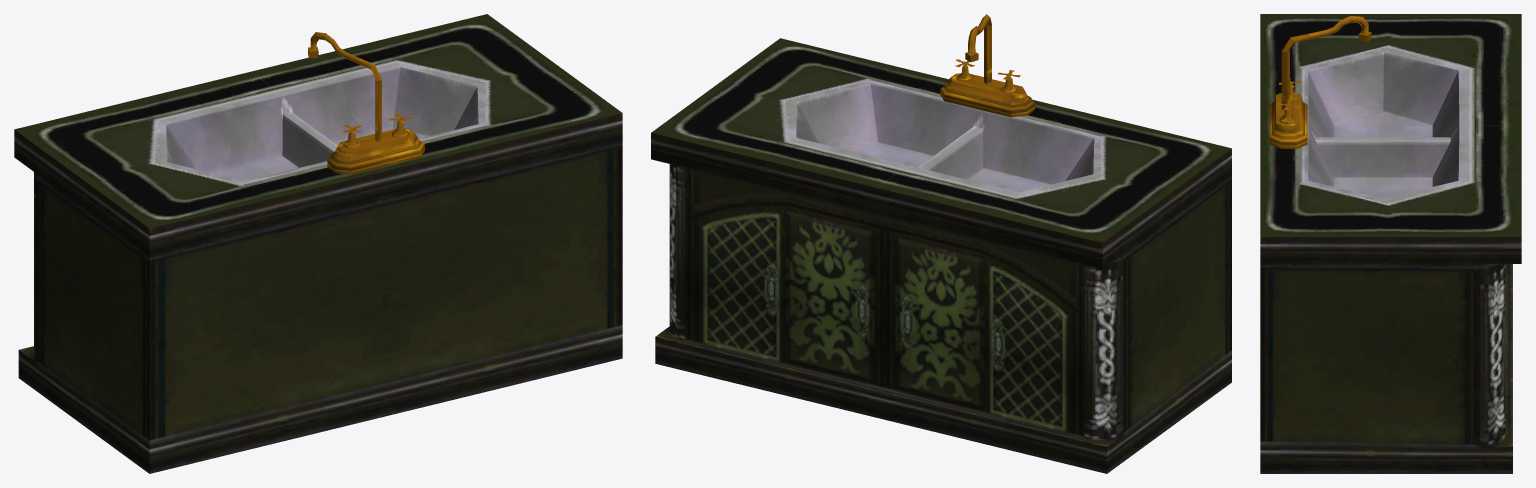
File: furni_0201225_03.FBX
3 renders of one model, left to right at view 1: azimuth 30°, elevation 25°; view 2: azimuth 150°, elevation 25°; view 3: azimuth 270°, elevation 25°, orthographic. The views are drawn at different scales.
Visible parts, largest first — view 1: furni_0201225_03; view 2: furni_0201225_03; view 3: furni_0201225_03.
Part boxes in pixels (x1,y1,x2,y2): furni_0201225_03: (14, 14, 622, 473); furni_0201225_03: (651, 14, 1231, 473); furni_0201225_03: (1260, 14, 1521, 473).
Size of the model in its own units: 161 by 115 by 80.
